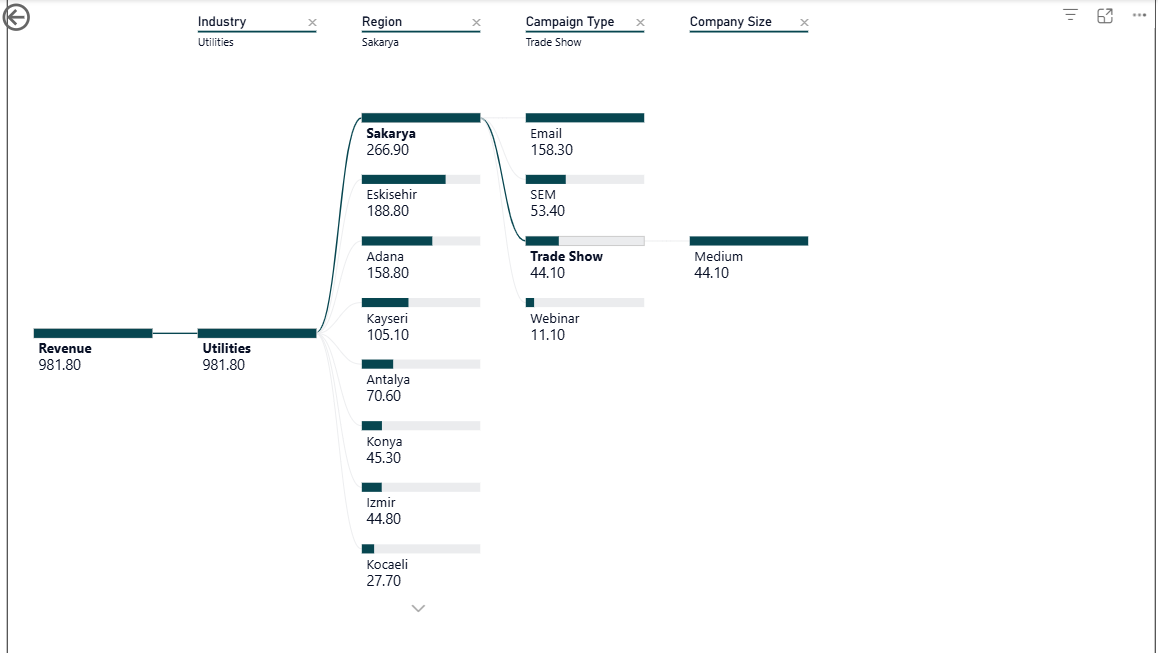

This screenshot's page, from the dashboard's own definition file:
{"tool":"powerbi","page":{"name":"Revenue by Industry Decomposition Tree","canvas":[1280,720],"ordinal":2},"visuals":[{"type":"decompositionTreeVisual","fields":{"ExplainBy":["Companies.Industry","Companies.Region","Companies.Campaign Type","Companies.Company Size"],"Analyze":["Employees.Revenue"]},"box":[10,0,1260.1,720.3],"z":0},{"type":"actionButton","box":[0,0,100,40],"z":1000}]}

Visuals, with their boxes on the page's 1280x720 design canvas (x1, y1, x2, y2). These are canvas units, not pixel positions in the 1158x653 screenshot, which may show the page scaled, cropped or inside an application window:
decompositionTreeVisual - Companies.Industry x Companies.Region: (x1=10, y1=0, x2=1270, y2=720)
actionButton: (x1=0, y1=0, x2=100, y2=40)
